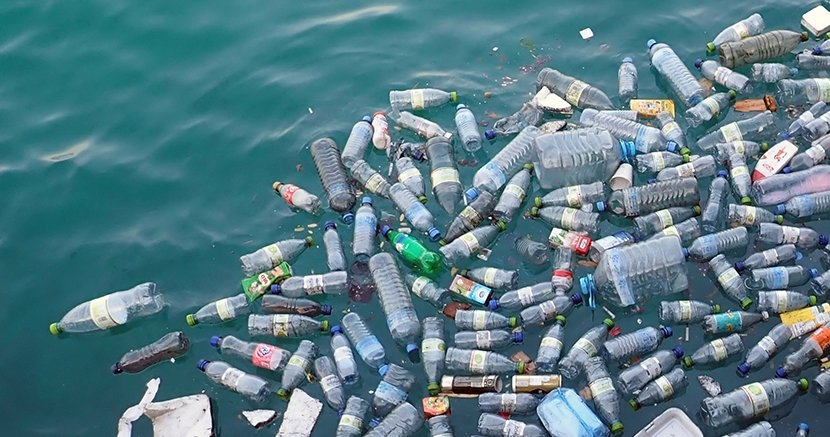metal: (435, 370, 505, 397), (510, 370, 568, 396)
paper: (260, 383, 327, 437), (139, 393, 219, 436), (627, 403, 709, 437), (744, 136, 800, 184), (543, 225, 596, 255)
plastic: (564, 230, 691, 312), (44, 276, 170, 342), (520, 119, 637, 188), (690, 368, 811, 432), (595, 171, 702, 220), (368, 249, 415, 355), (98, 326, 189, 380), (532, 66, 621, 115), (535, 385, 617, 437), (715, 27, 810, 71), (305, 135, 351, 222), (194, 354, 270, 406), (750, 163, 830, 210), (433, 219, 511, 267), (419, 132, 464, 215), (645, 37, 701, 103), (235, 231, 315, 274), (698, 8, 767, 57), (386, 180, 441, 239), (267, 266, 352, 303), (601, 321, 673, 364), (338, 312, 387, 373), (680, 223, 751, 265), (624, 365, 690, 409), (179, 290, 251, 330), (345, 191, 383, 266), (533, 175, 605, 214), (208, 334, 288, 368), (691, 167, 734, 230), (677, 330, 748, 368), (753, 217, 830, 252), (443, 344, 525, 376), (705, 251, 751, 308), (380, 225, 440, 268), (489, 276, 555, 315), (699, 303, 772, 338), (709, 252, 752, 309), (530, 311, 568, 374), (654, 294, 721, 328), (528, 201, 601, 232), (771, 187, 830, 225), (336, 110, 373, 170), (326, 322, 361, 385), (391, 109, 455, 143), (450, 324, 525, 353), (753, 285, 820, 317), (269, 176, 324, 212), (382, 84, 461, 109), (315, 215, 349, 272), (448, 305, 521, 331), (454, 265, 522, 292), (334, 394, 372, 437), (279, 340, 311, 391), (315, 354, 342, 409), (419, 312, 436, 392), (368, 105, 394, 154)
